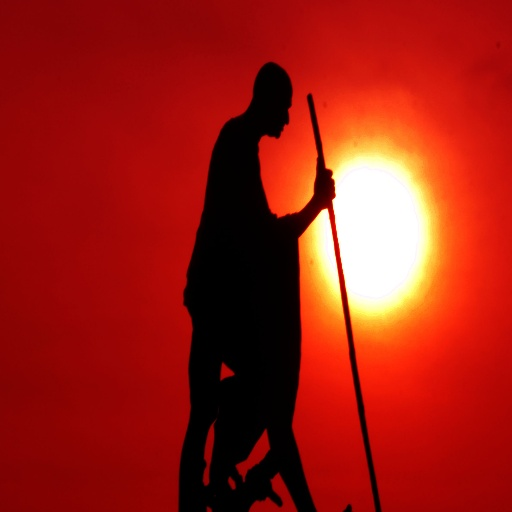hand: (303, 146, 339, 221)
